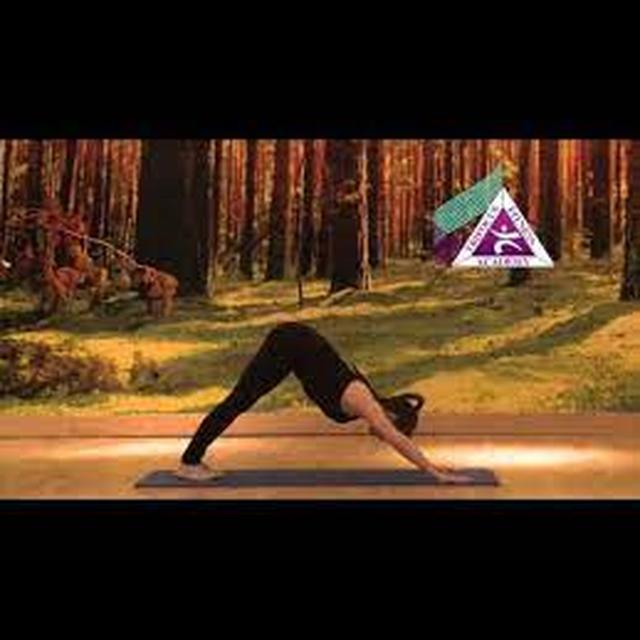Downward-Facing_Dog: (171, 317, 477, 493)
